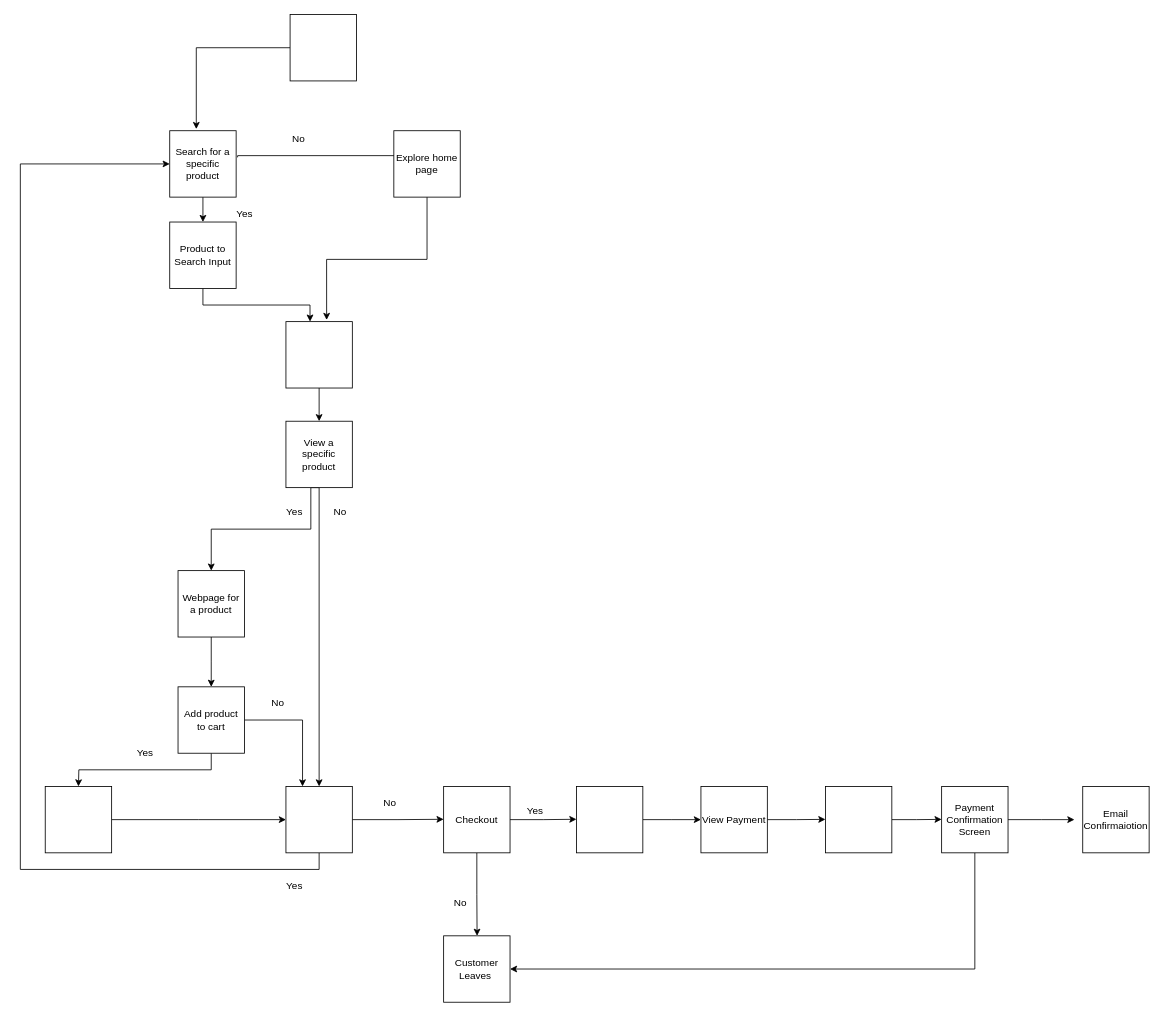
Some shapes in this 1164 by 1017 pixel diagram are drawn without their labels. The centre of each missing label's shape, as x and y in pixels:
Continue Shopping: point (318, 819)
Enter the website: point (322, 47)
Item added notification: point (78, 819)
List of products to look over: point (318, 354)
Payment Input: point (858, 819)
View Cart: point (609, 819)
